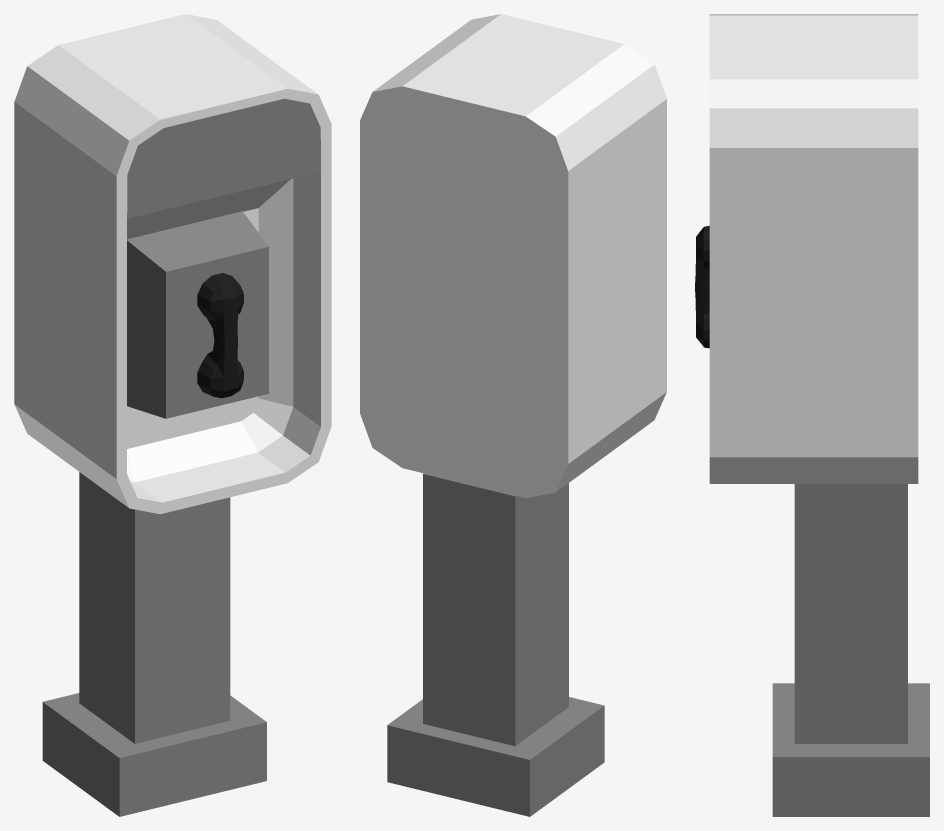
Rendered from phonepole.glb.
3 views of the same model, side by side, from view 1: azimuth 30°, elevation 25°; view 2: azimuth 150°, elevation 25°; view 3: azimuth 270°, elevation 25° (orthographic). The views are drawn at different scales.
Visible parts, largest first — view 1: outside, inside; view 2: outside; view 3: outside, inside.
Part boxes in pixels (x1,y1,x2,y2): outside: (14, 14, 331, 816); inside: (127, 211, 268, 418); outside: (360, 14, 666, 816); outside: (709, 14, 929, 816); inside: (695, 225, 709, 348).
Size of the model in its own units: 0.4606 by 1.47 by 0.4263.
Materials: 1 (1 with a texture image).
